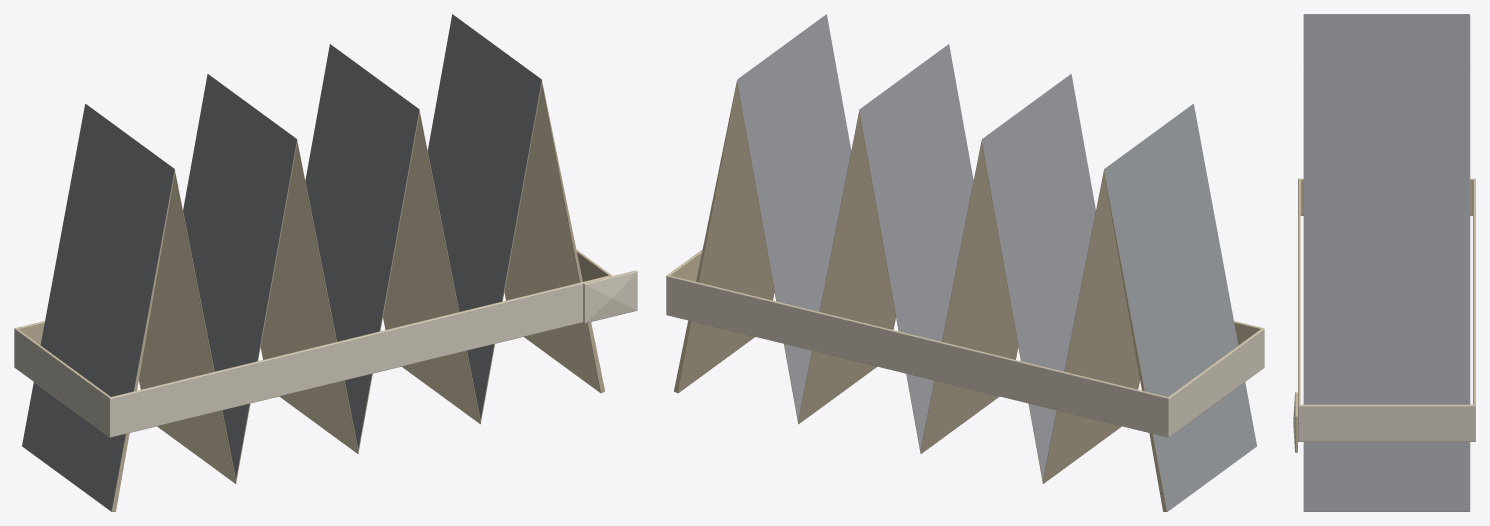
Rendered from achievement-monthly-master.glb.
3 renders of one model, left to right at view 1: azimuth 30°, elevation 25°; view 2: azimuth 150°, elevation 25°; view 3: azimuth 270°, elevation 25°, orthographic. The views are drawn at different scales.
Parts seen in each view (by area): view 1: achievement-monthly-master; view 2: achievement-monthly-master; view 3: achievement-monthly-master.
Boxes of the visible parts, bbox=[...] form: achievement-monthly-master: bbox=[14, 14, 637, 511]; achievement-monthly-master: bbox=[666, 14, 1264, 511]; achievement-monthly-master: bbox=[1293, 14, 1475, 511].
Size of the model in its own units: 2.37 by 1.42 by 0.7677.
